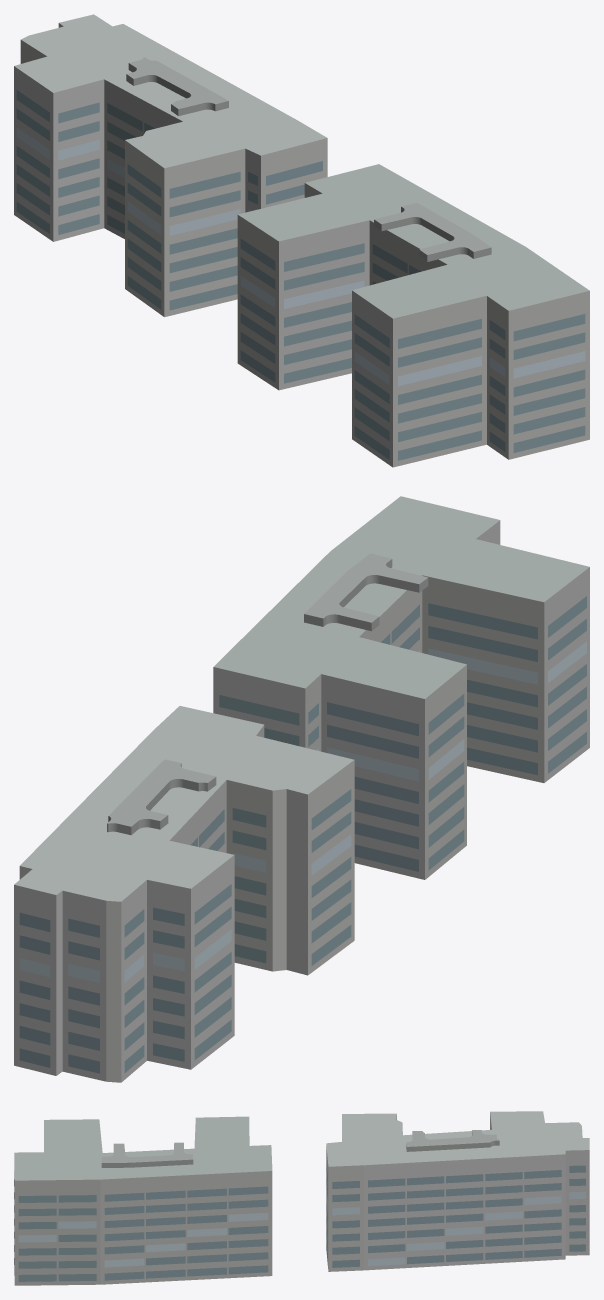
Rendered from apt-a11076701.glb.
3 renders of one model, top to bottom at view 1: azimuth 30°, elevation 25°; view 2: azimuth 150°, elevation 25°; view 3: azimuth 270°, elevation 25°, orthographic. The views are drawn at different scales.
Visible parts, largest first — view 1: apt-a11076701; view 2: apt-a11076701; view 3: apt-a11076701.
Boxes of the visible parts, bbox=[...] form: apt-a11076701: bbox=[14, 14, 589, 467]; apt-a11076701: bbox=[14, 496, 589, 1082]; apt-a11076701: bbox=[14, 1111, 589, 1285].
Size of the model in its own units: 33.88 by 25 by 119.
